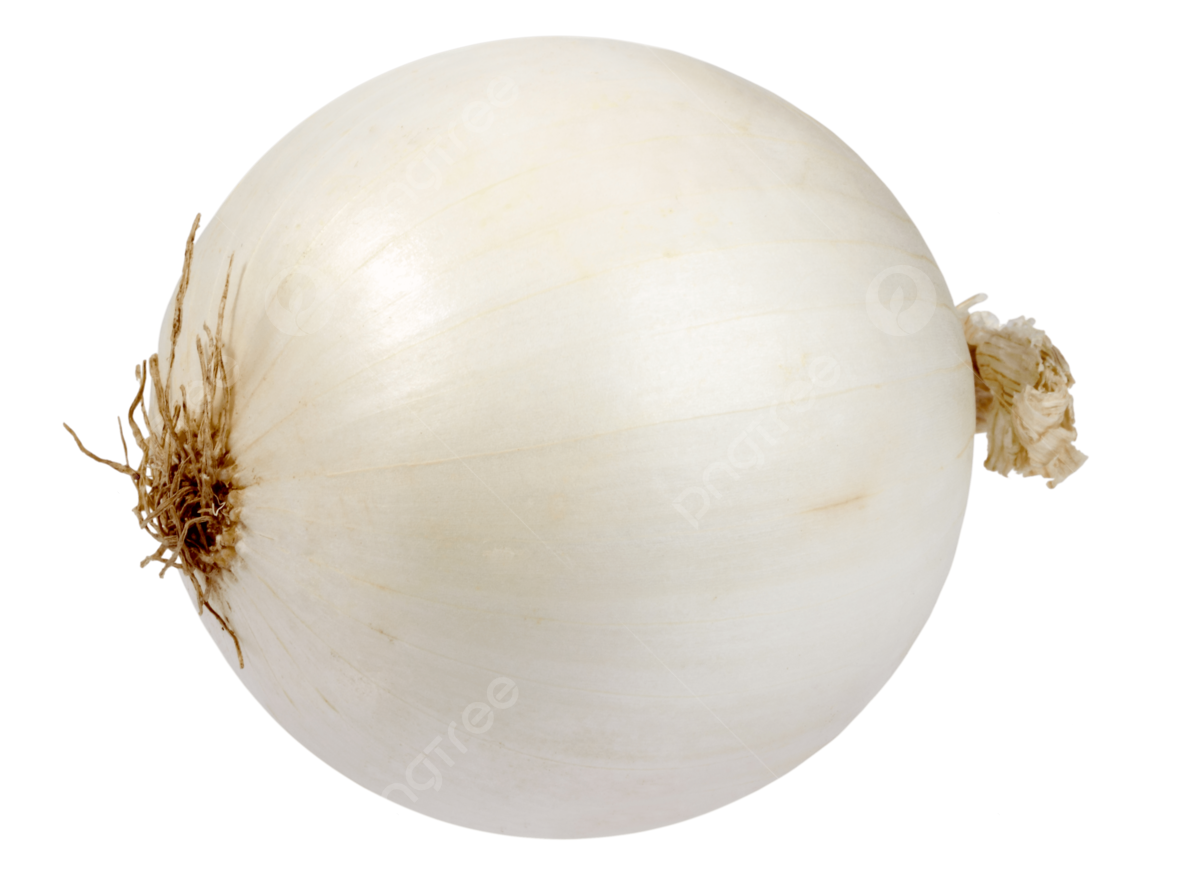onion: (123, 31, 1119, 849)
